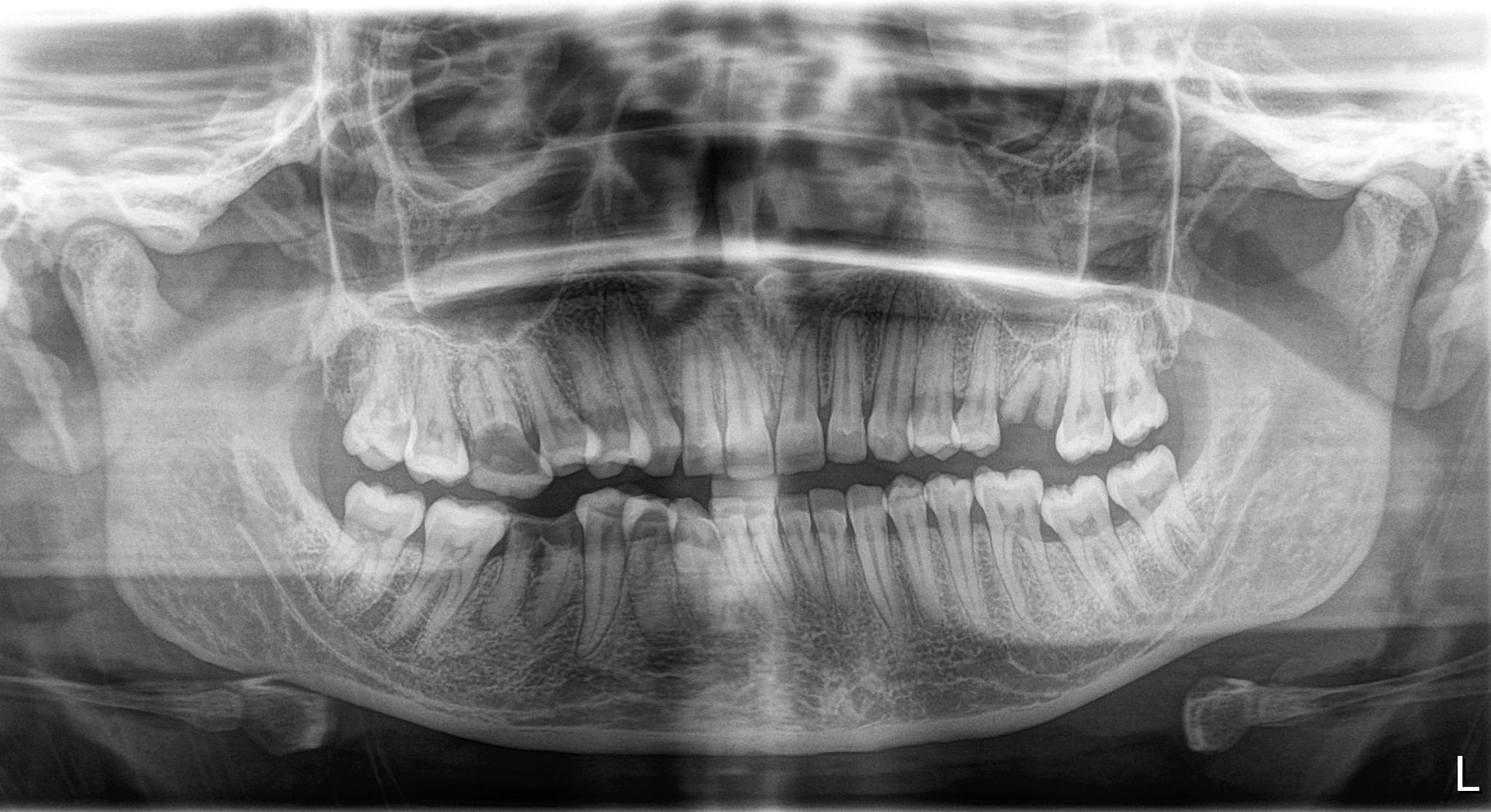Dental Caries: (510, 518, 589, 618), (470, 420, 561, 497)
Periapical Lesion: (470, 566, 589, 699)
Retained Root: (1010, 338, 1075, 459)
